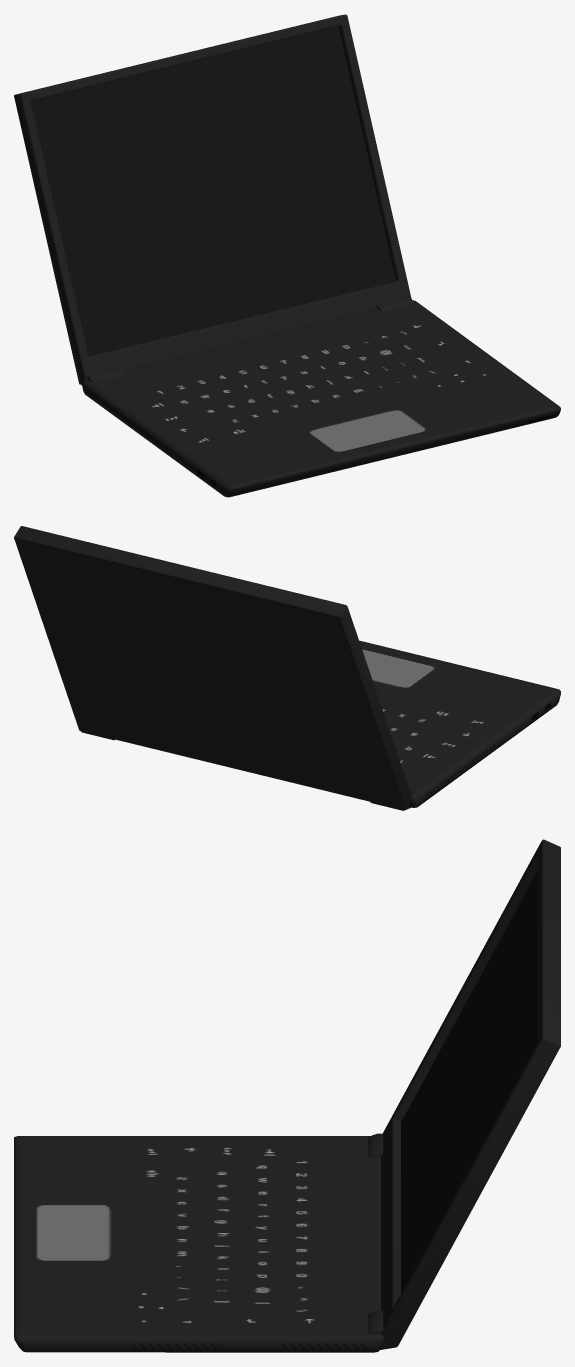
3 renders of one model, top to bottom at view 1: azimuth 30°, elevation 25°; view 2: azimuth 150°, elevation 25°; view 3: azimuth 270°, elevation 25°, orthographic. The views are drawn at different scales.
Visible parts, largest first — view 1: PC_B; view 2: PC_B; view 3: PC_B.
Part boxes in pixels (box(x1,y1,x2,y2)): PC_B: box(14, 14, 560, 497); PC_B: box(14, 526, 560, 810); PC_B: box(14, 839, 560, 1352).
Bounding box in the file's own units: 0.641 × 0.4612 × 0.7262.
